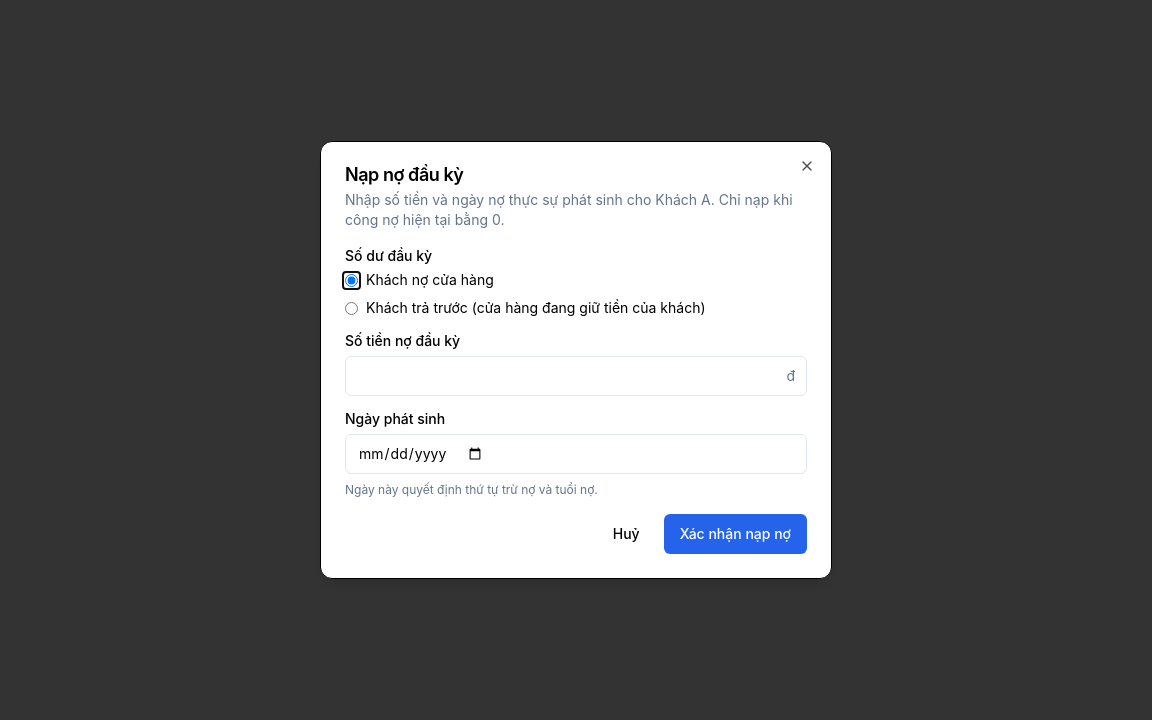
Scenario: OpeningDebtDialog (GL-09) › để trống số tiền báo tiếng Việt, không hiện thông báo tiếng Anh của zod
This screenshot has width=1152, height=720.
Type "2025-01-15" into the date field labelled "Ngày phát sinh".
click(576, 454); type("2025-01-15")  # box [345,434,807,474]
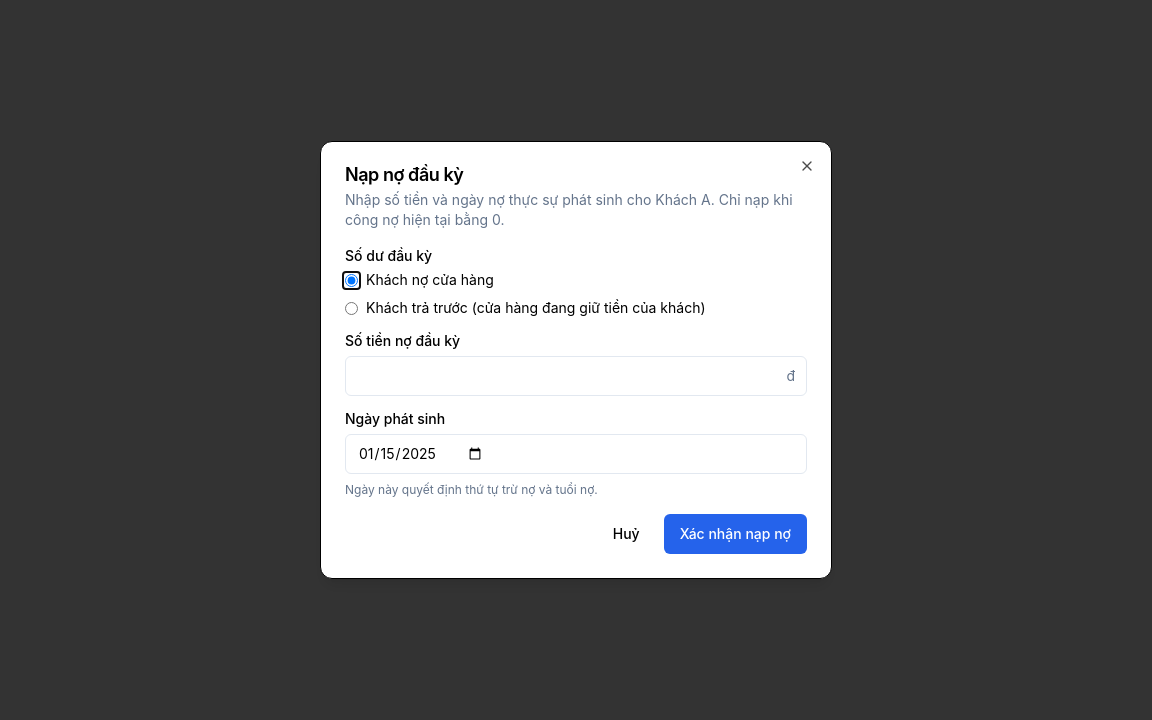
Click the button "Xác nhận nạp nợ".
click(735, 534)  # box [664,514,807,554]
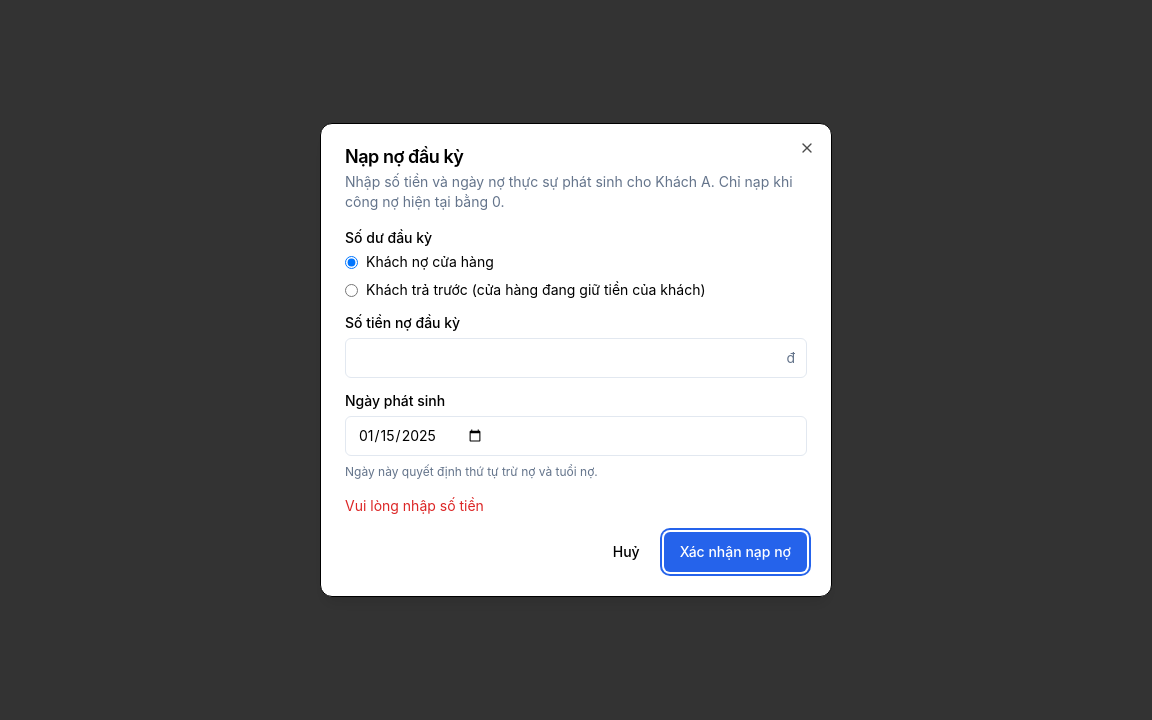
expect the message reads "Vui lòng nhập số tiền": met, box [345,497,484,514]
